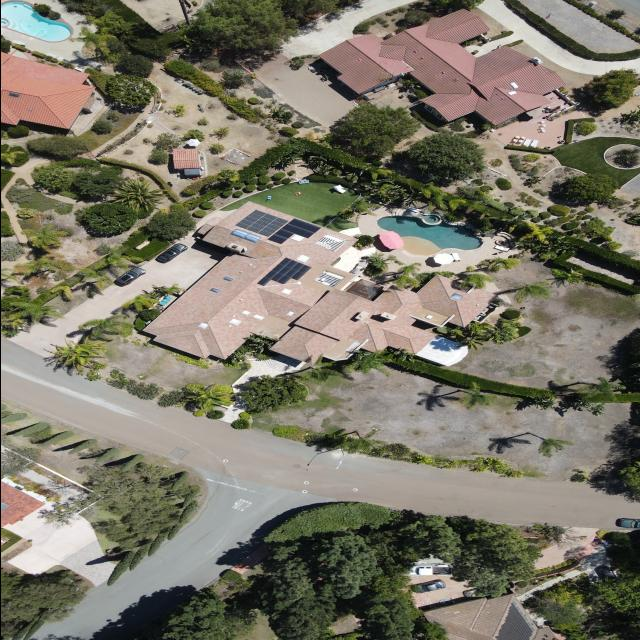solar-panels: (256, 249, 311, 302), (266, 209, 321, 259), (234, 205, 288, 241), (493, 602, 541, 640), (0, 502, 9, 511)
